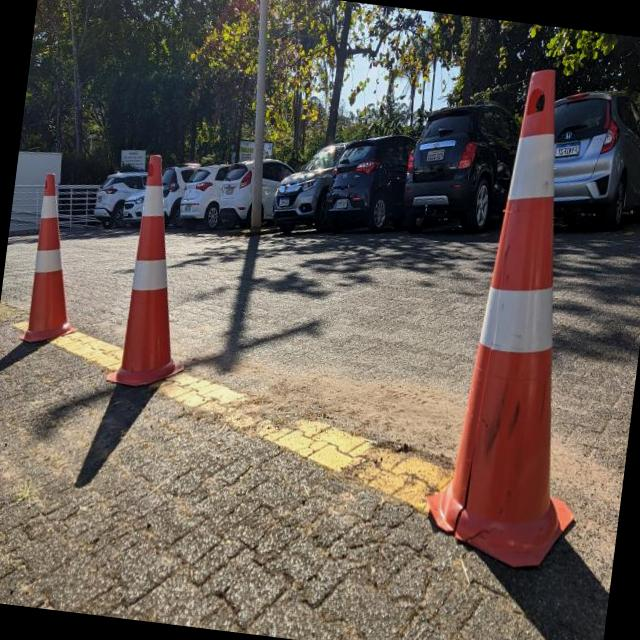Cone: (414, 54, 633, 578), (100, 145, 212, 403), (16, 168, 98, 352)
